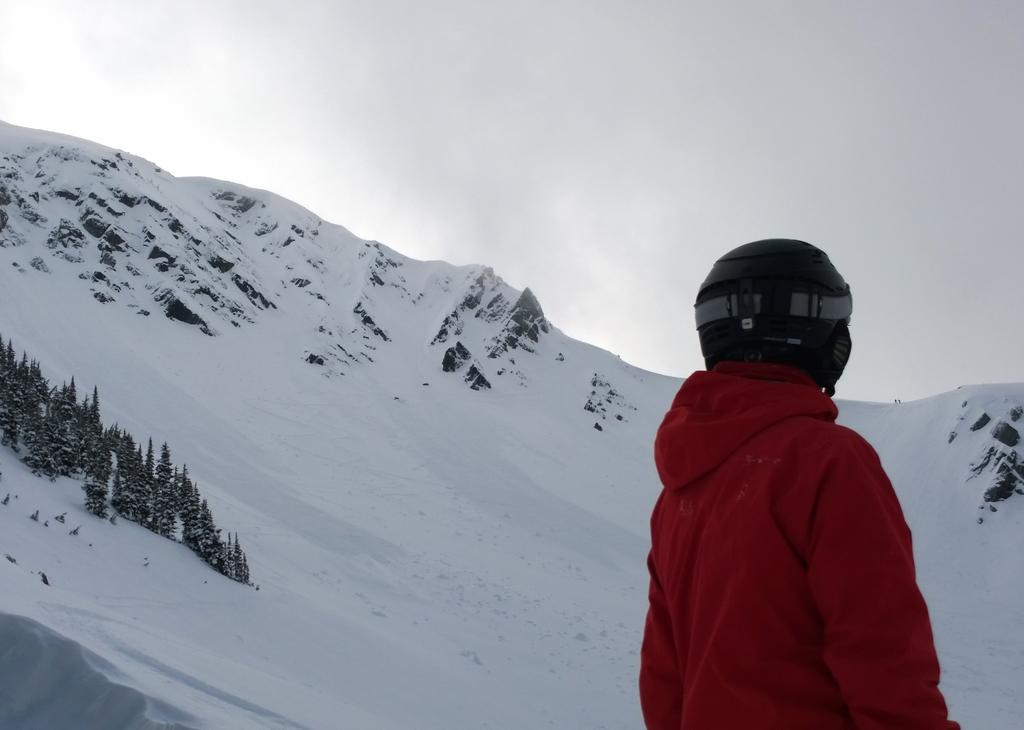helmet: (694, 238, 854, 393)
